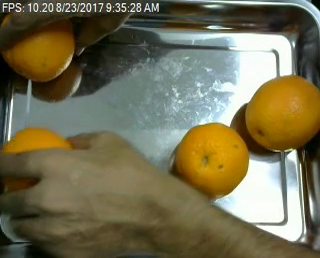Orange: (246, 74, 320, 150), (177, 122, 249, 198)
